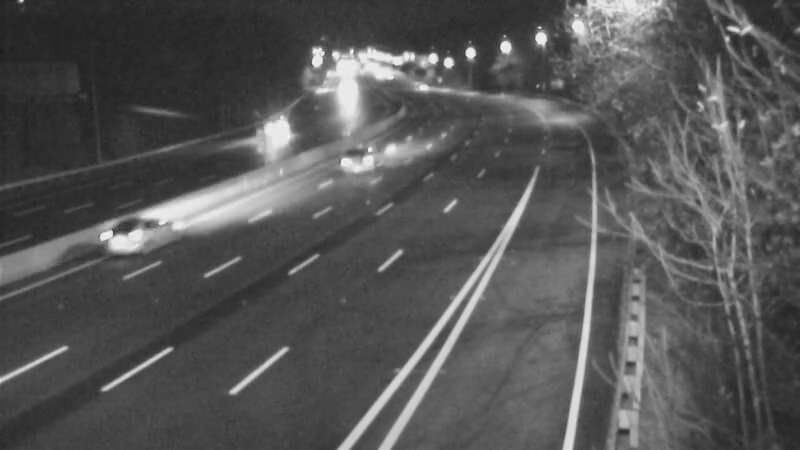vehicle: (313, 120, 393, 200), (87, 192, 167, 272), (394, 62, 444, 112), (249, 108, 299, 158), (323, 72, 373, 122)
